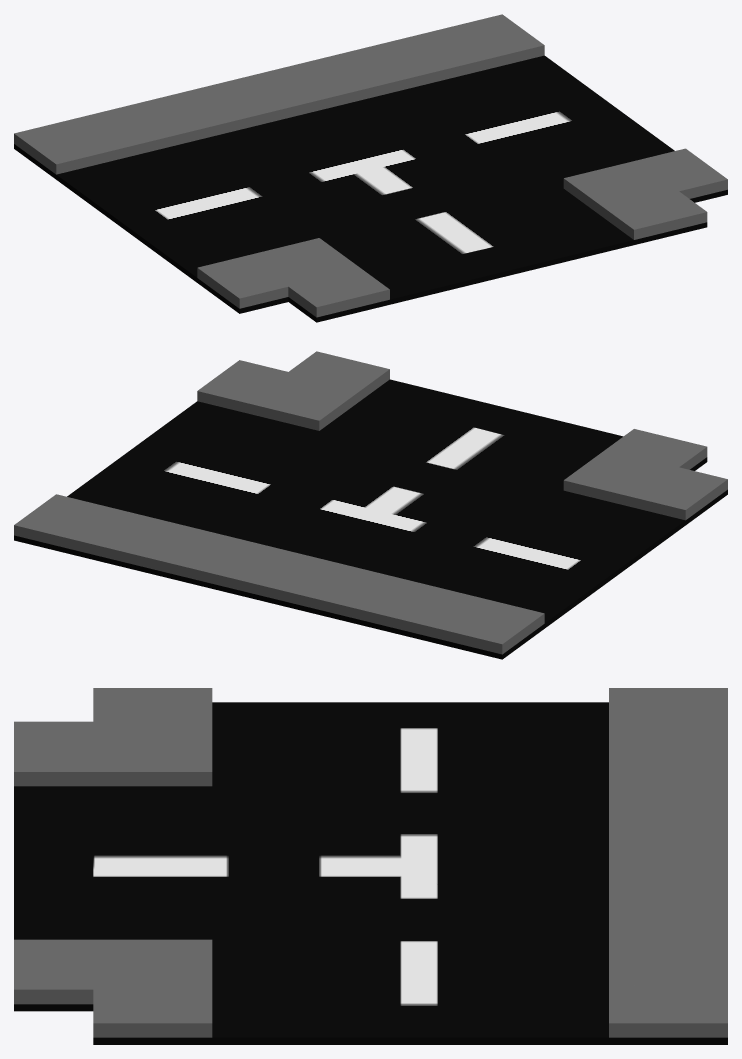
Rendered from tcrossroad.gltf.
3 views of the same model, one above another, from view 1: azimuth 30°, elevation 25°; view 2: azimuth 150°, elevation 25°; view 3: azimuth 270°, elevation 25° (orthographic). The views are drawn at different scales.
Visible parts, largest first — view 1: Cube.007; view 2: Cube.007; view 3: Cube.007.
Boxes of the visible parts, x1,y1,x2,y2 form: Cube.007: (14,14,727,322); Cube.007: (14,351,727,659); Cube.007: (14,688,727,1044).
Bounding box in the file's own units: 20 × 0.6 × 18.
Materials: 1 (1 with a texture image).
